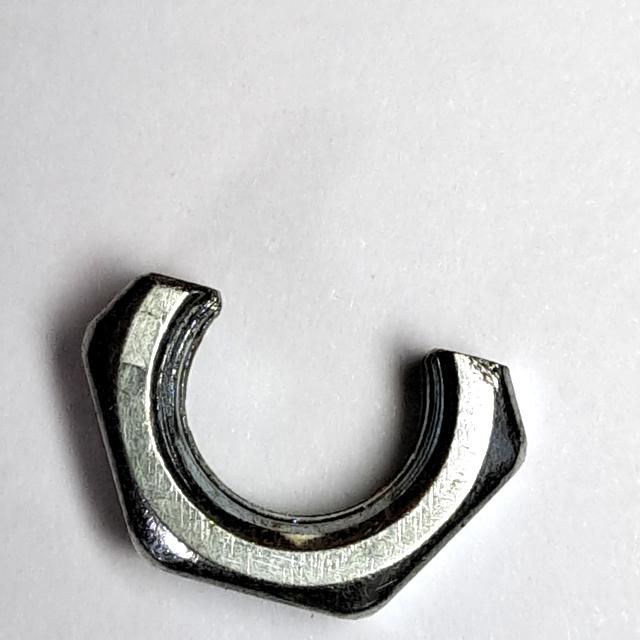Fracture: (68, 256, 550, 631)
